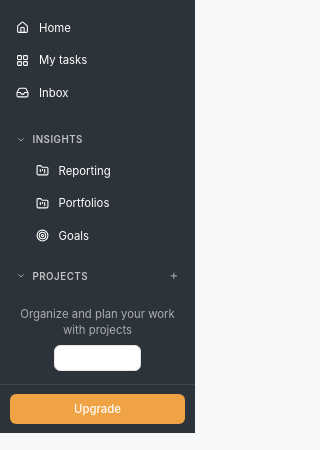
AsanaSidebar › maintains collapsed/expanded state for sections
Expected: the link with test id "nav-reporting" is shown, [36,164,111,178]
Click the button with test id "insights-toggle" at x=98, y=140, box [6,127,188,153]
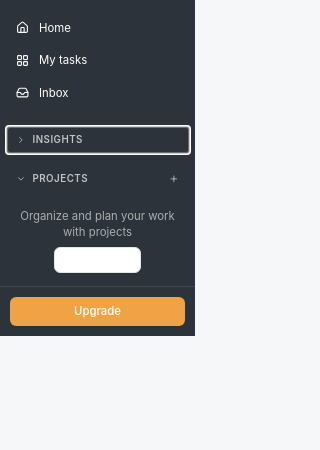
Expected: the link with test id "nav-reporting" is gone
# Expand again
Click the button with test id "insights-toggle" at x=98, y=140, box [6,127,188,153]
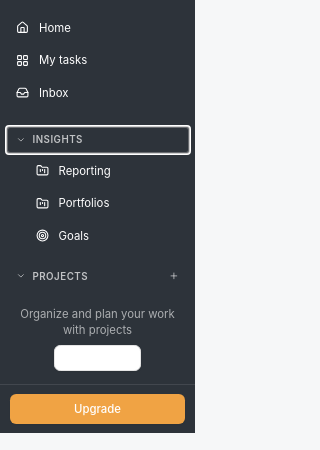
Expected: the link with test id "nav-reporting" is shown, [36,164,111,178]
